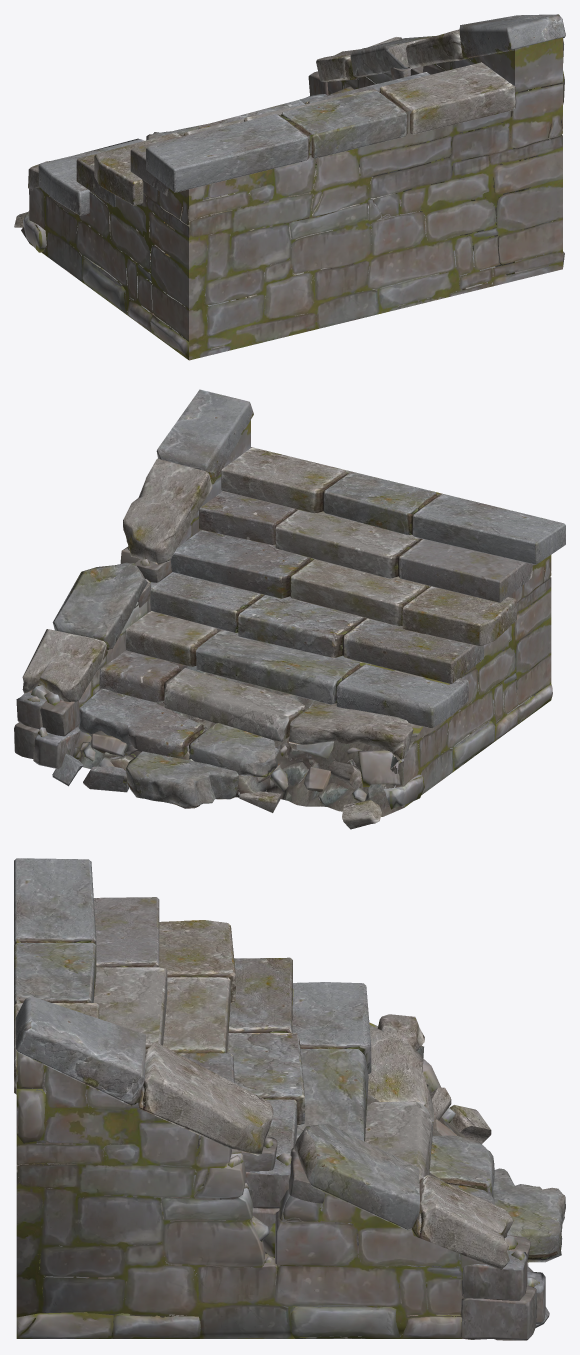
The picture shows the model from 3 angles, top to bottom: view 1: azimuth 30°, elevation 25°; view 2: azimuth 150°, elevation 25°; view 3: azimuth 270°, elevation 25°; orthographic projection. The views are drawn at different scales.
Visible parts, largest first — view 1: SM_Castle_Steps_4x2_01_v1_DMG_LOD0; view 2: SM_Castle_Steps_4x2_01_v1_DMG_LOD0; view 3: SM_Castle_Steps_4x2_01_v1_DMG_LOD0.
Part boxes in pixels (x1,y1,x2,y2): SM_Castle_Steps_4x2_01_v1_DMG_LOD0: (14,14,565,360); SM_Castle_Steps_4x2_01_v1_DMG_LOD0: (14,389,565,829); SM_Castle_Steps_4x2_01_v1_DMG_LOD0: (14,858,565,1340).
Size of the model in its own units: 4.29 by 2.72 by 4.1.
4 materials, 4 textured.
